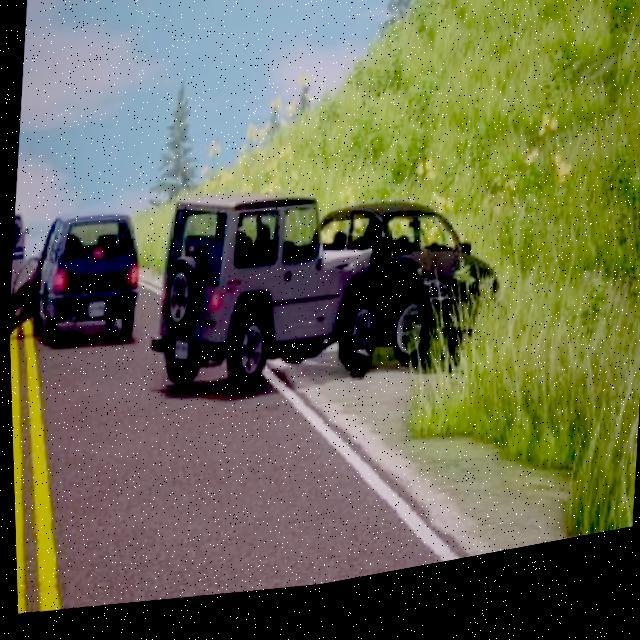Car Accident Detector - v4 Generation1 Exported: (146, 147, 513, 444)
